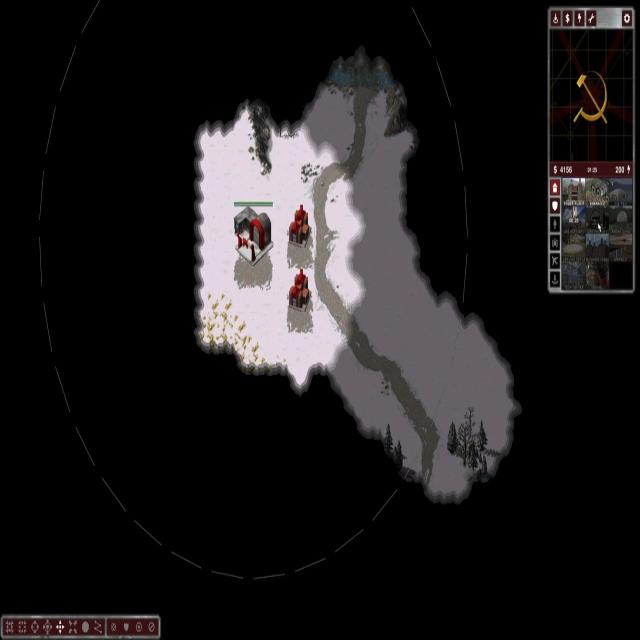dianchang: (288, 268, 311, 312), (288, 203, 310, 247)
jidi: (234, 206, 271, 264)
